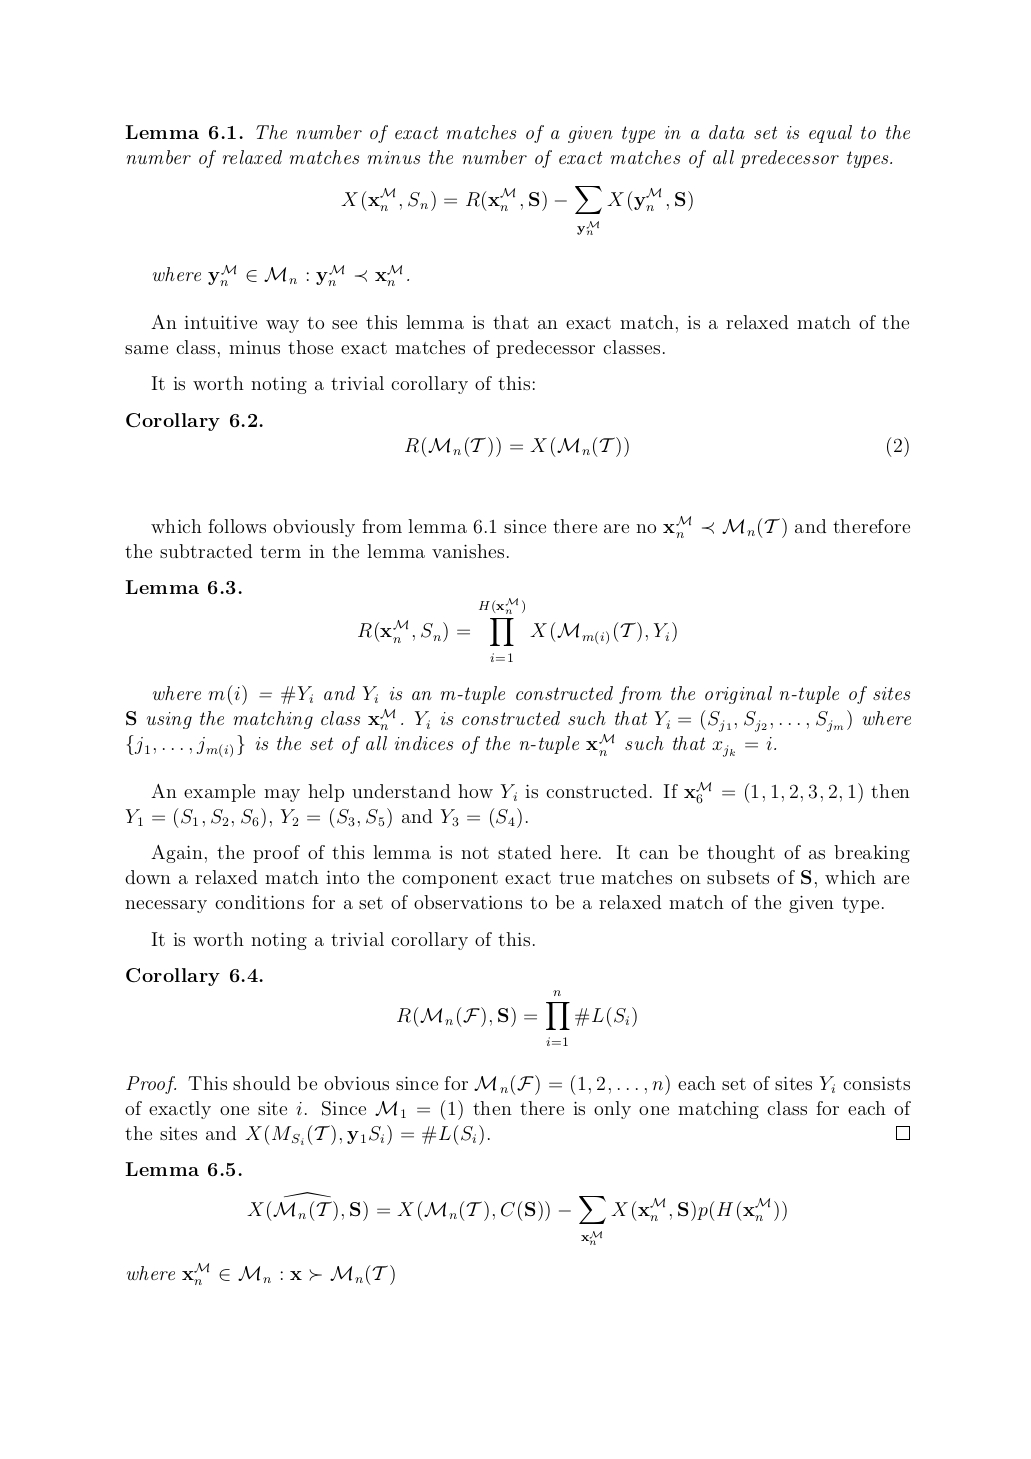formula: (247, 1192, 786, 1244), (358, 598, 676, 661), (341, 186, 692, 234), (397, 991, 636, 1045), (405, 436, 908, 457)
